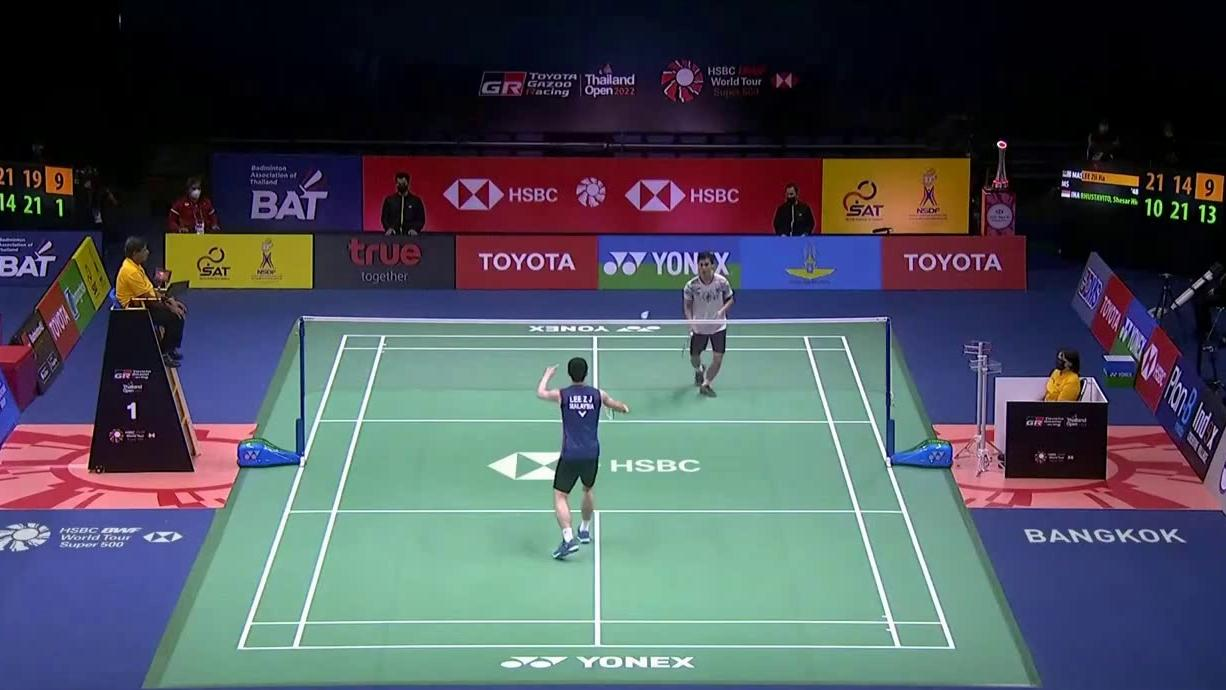racket: (602, 401, 629, 422), (680, 327, 694, 360)
shuttle: (640, 310, 650, 320)
